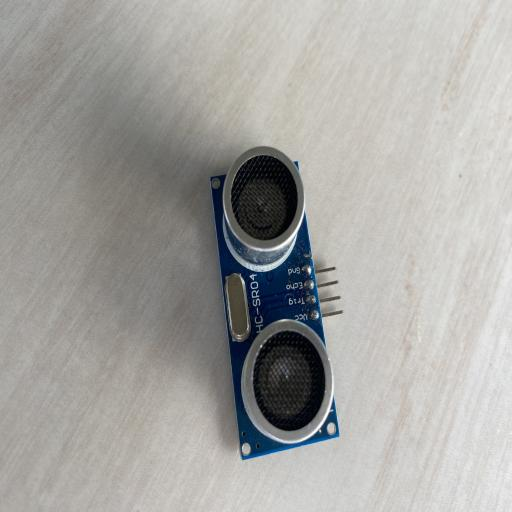Ultrasonic Sensor: (209, 145, 345, 461)
